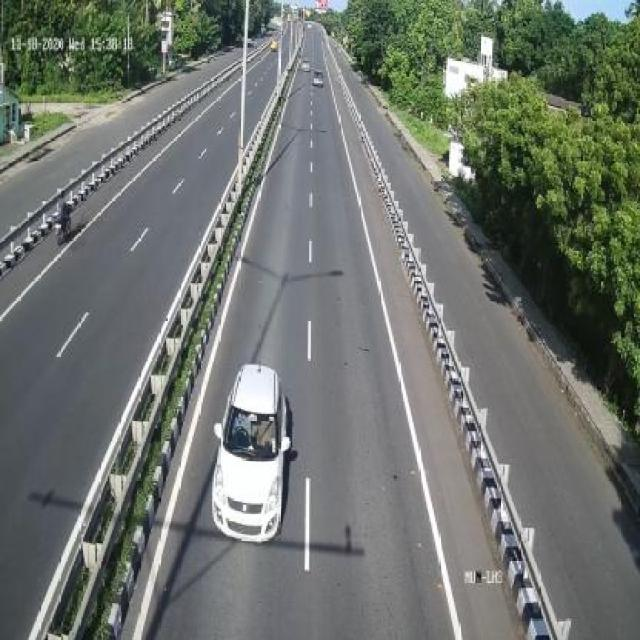car: (217, 359, 292, 546), (309, 66, 328, 92), (300, 54, 311, 78)
